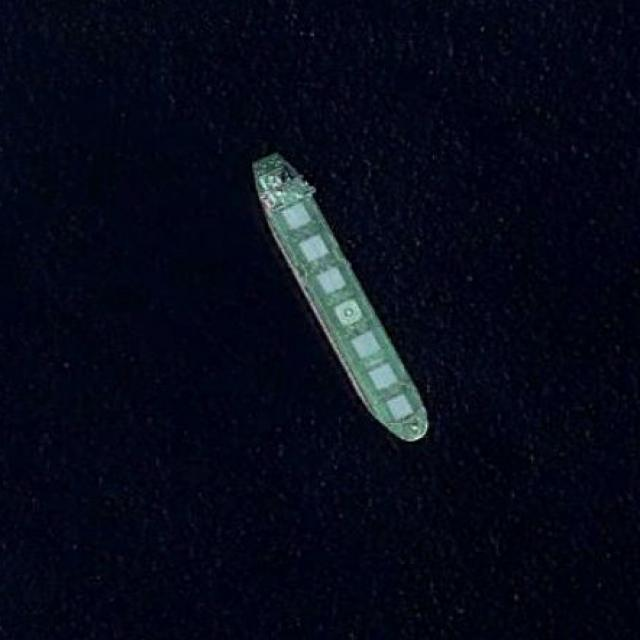ship: (252, 152, 430, 441)
